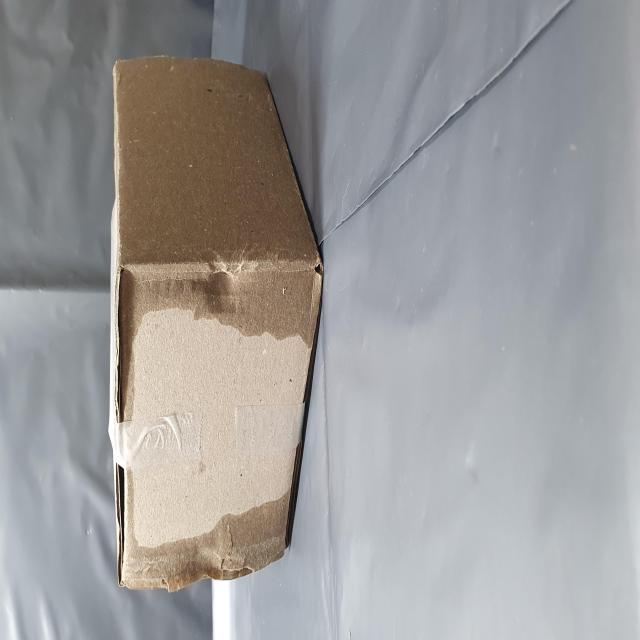wet: (124, 200, 323, 560), (27, 212, 104, 515)
